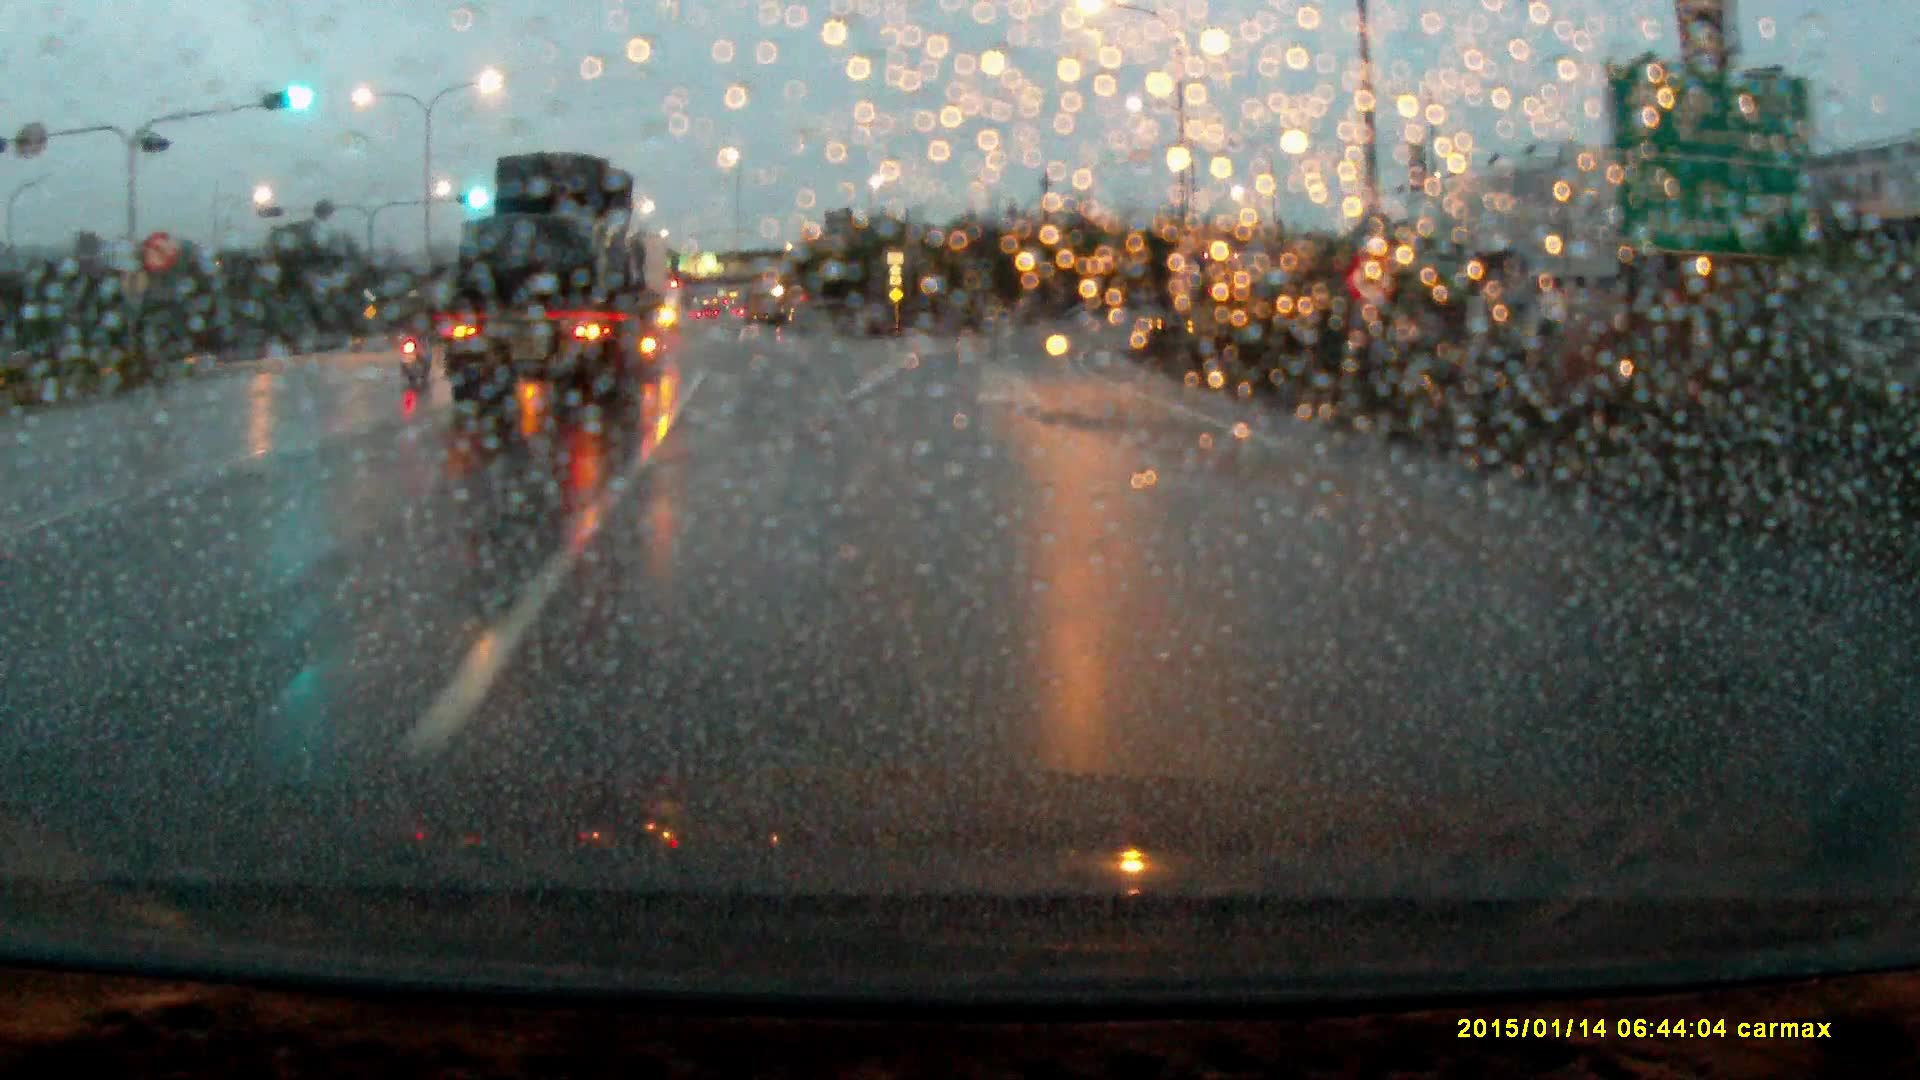rider: (389, 286, 440, 396)
vehicle: (446, 151, 669, 430)
